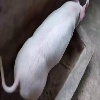heo: (5, 1, 87, 98)
